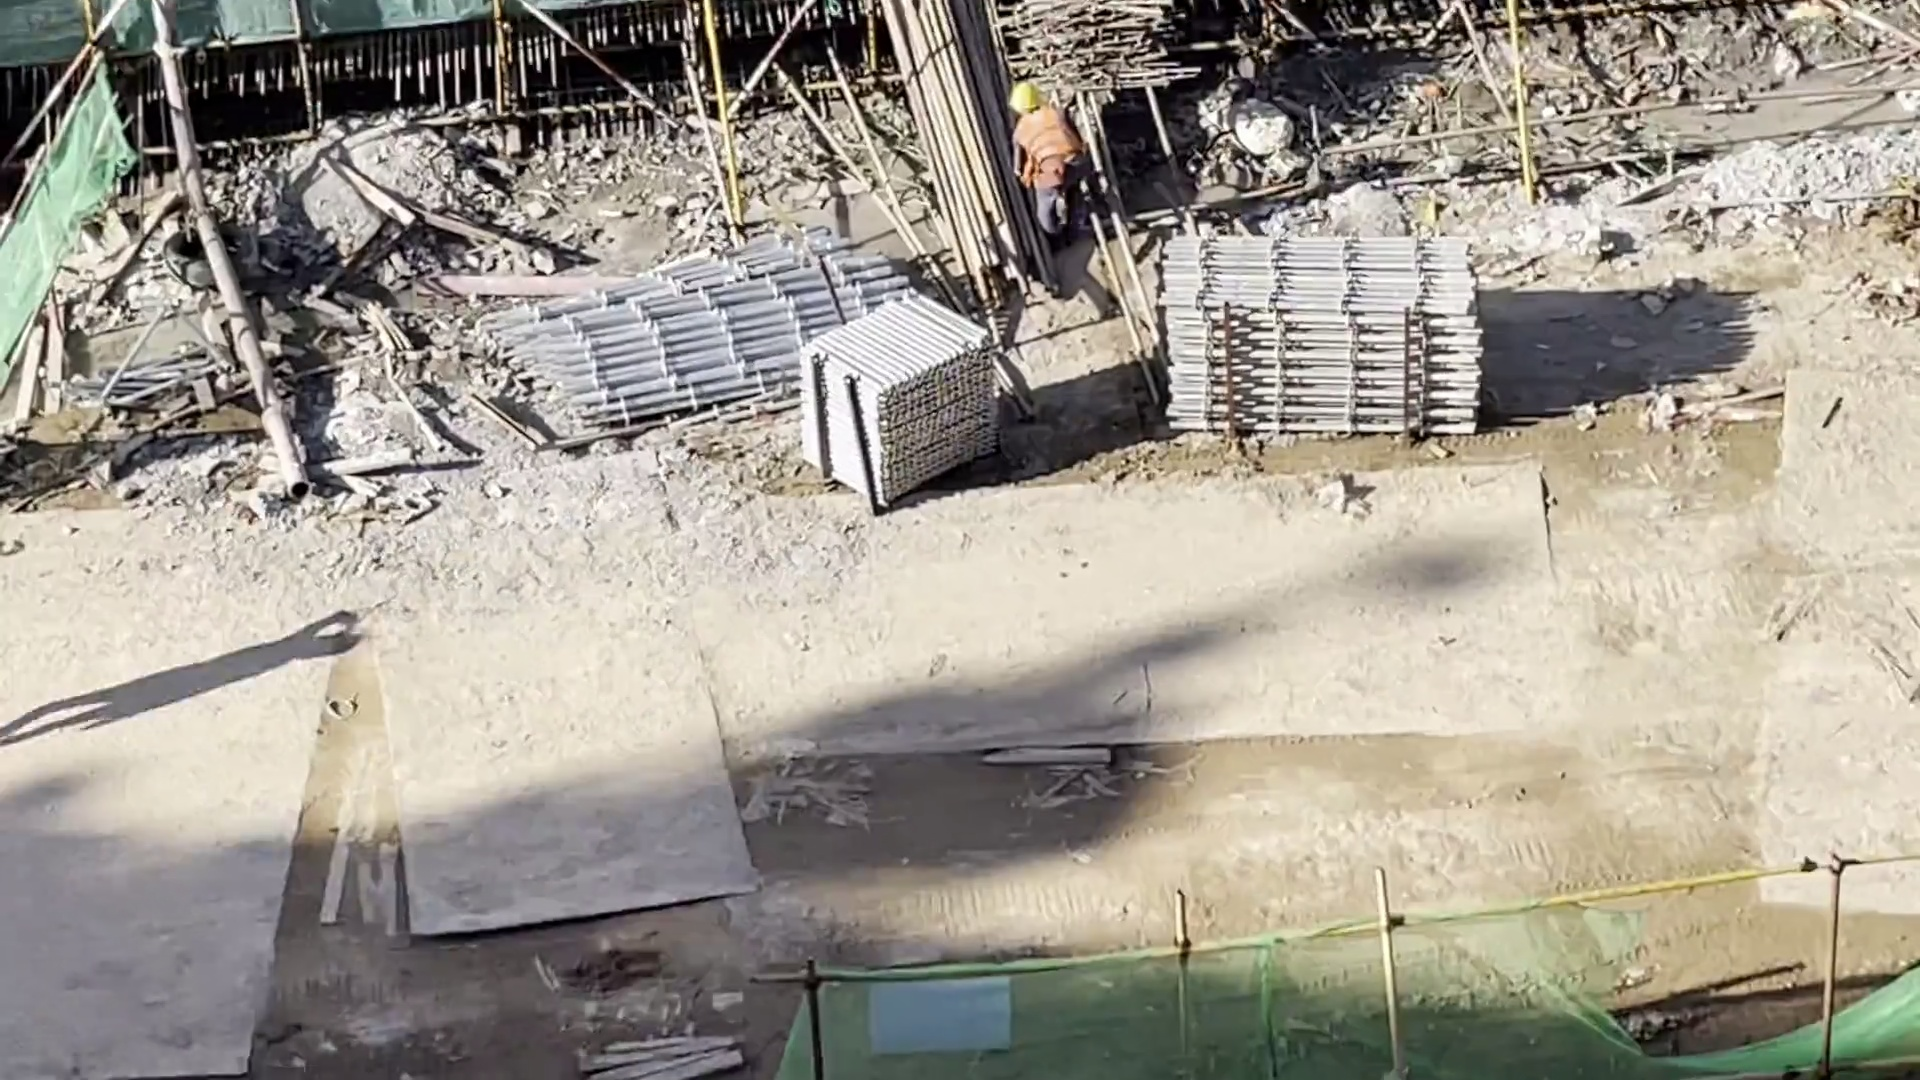helmet: (1011, 74, 1041, 121)
person: (1013, 85, 1113, 245)
scaffold: (1143, 239, 1518, 436), (494, 257, 908, 387), (816, 316, 943, 506)
vest: (991, 114, 1101, 206)
